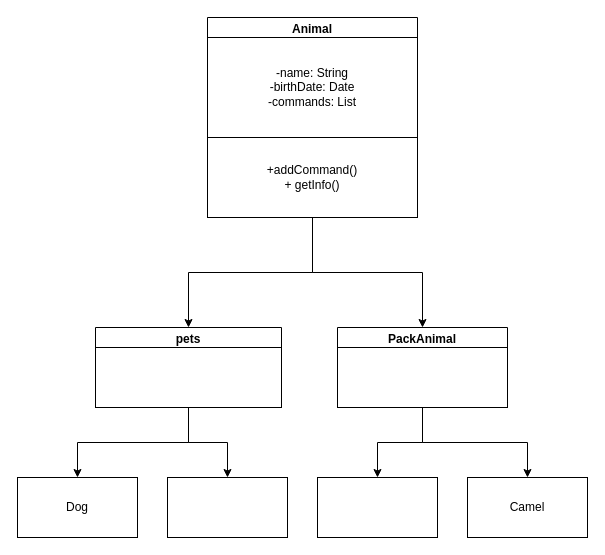
The diagram is 605 pixels wide and 555 high, and some of its shapes have lost their labels. Here are the shapes that lost their labels. From the top down, the centre of each, then its label:
At point 188,377: "- type".
At point 422,377: "- loadCapacity".
At point 227,507: "Cat".
At point 377,507: "Horse".
